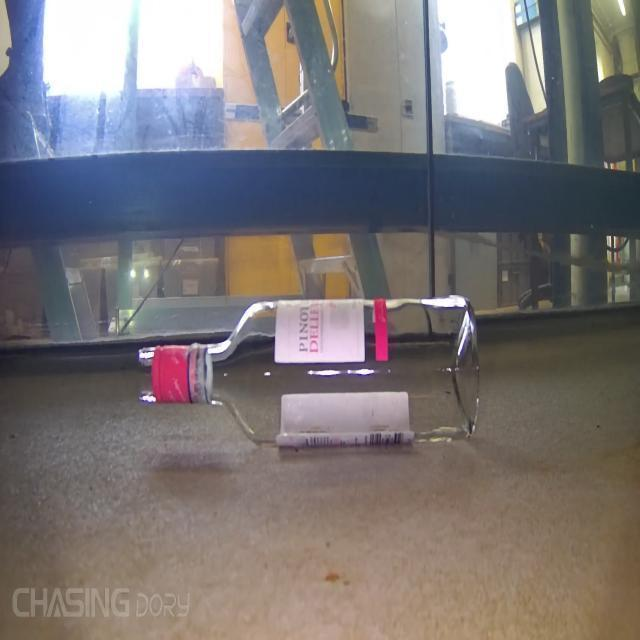Glass: (138, 295, 482, 448)
